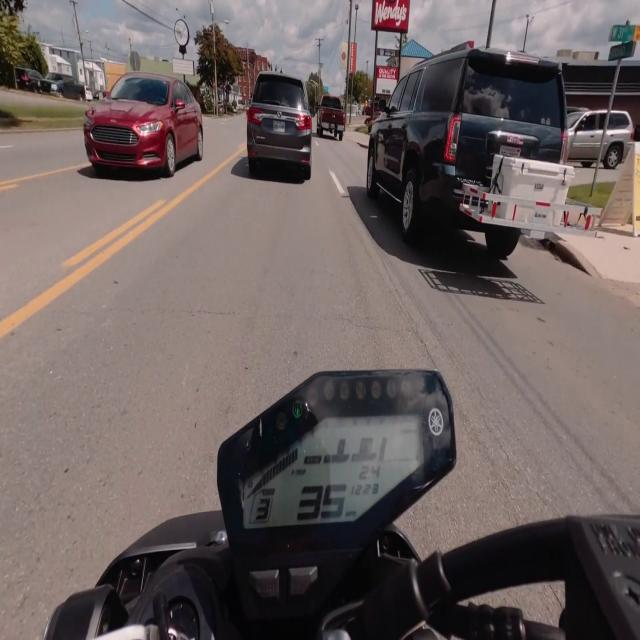car: (367, 47, 568, 259), (84, 73, 203, 177), (247, 72, 314, 179)
motorcycle: (44, 371, 639, 639)
